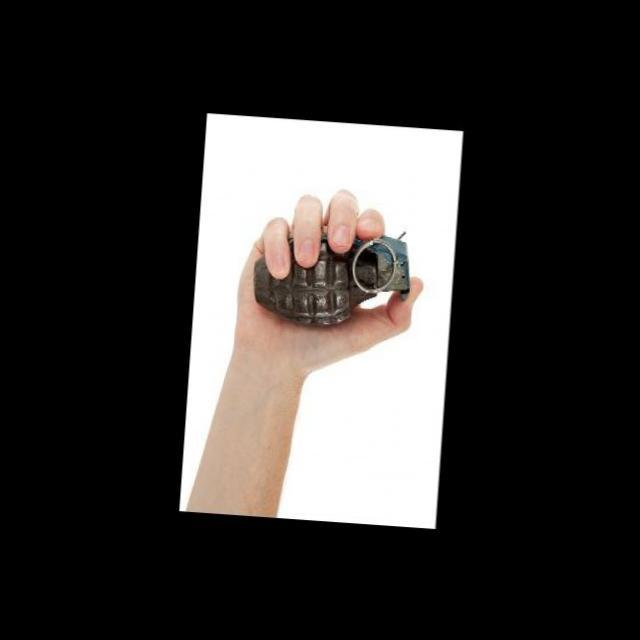grenade: (246, 218, 415, 340)
